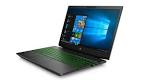laptop: (11, 2, 128, 75)
